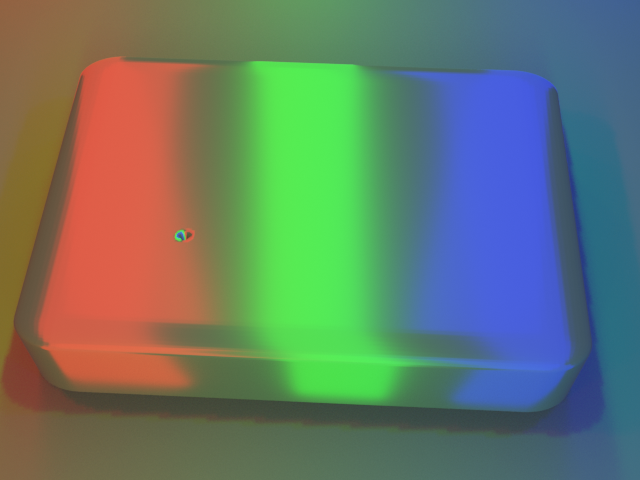dent: (149, 220, 190, 259)
